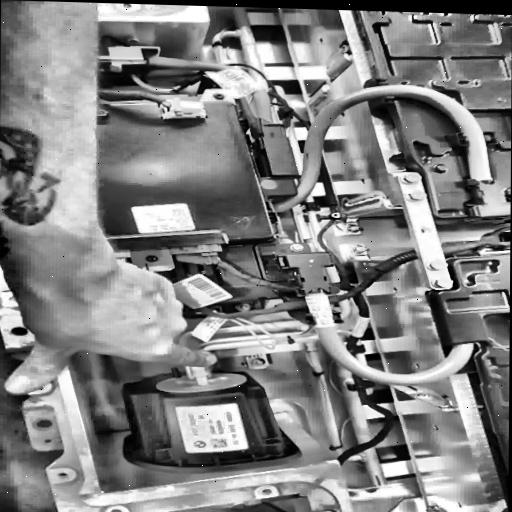high_volt_cable: (270, 80, 497, 220), (303, 293, 477, 386)
low_volt_cable: (173, 208, 510, 332)
nut: (399, 172, 421, 185), (425, 260, 447, 272), (405, 190, 427, 202), (432, 277, 453, 289), (290, 244, 303, 251)
